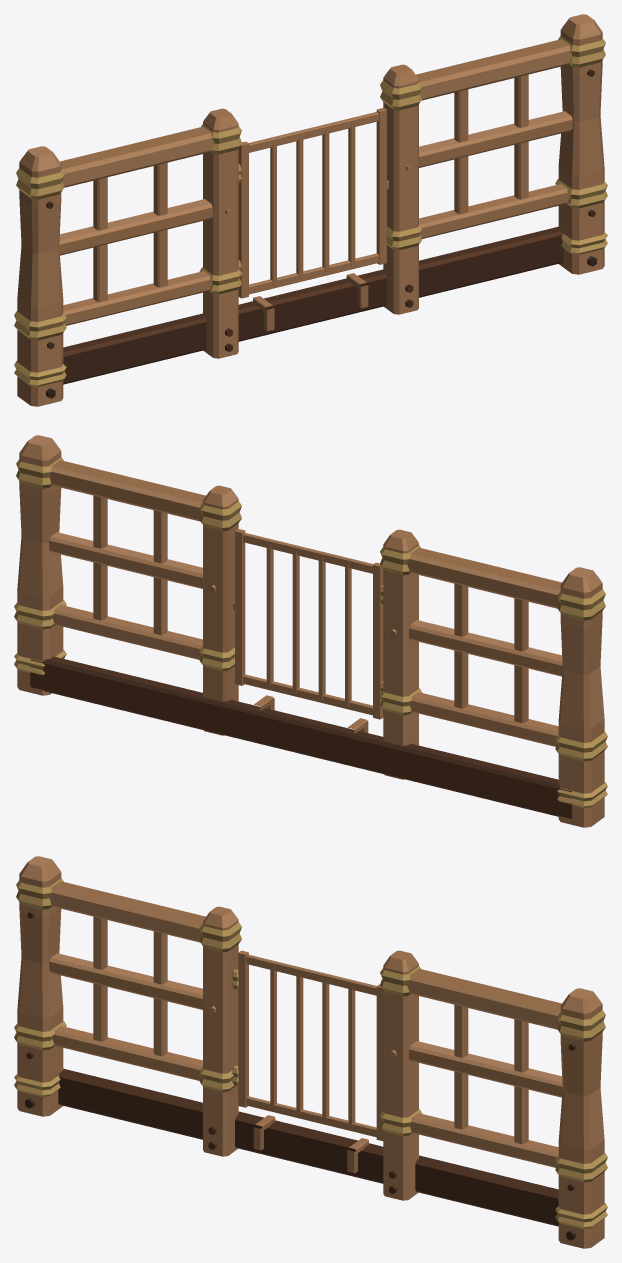
Rendered from modular-deck-edge-guard-f3bee6.glb.
3 views of the same model, one above another, from view 1: azimuth 30°, elevation 25°; view 2: azimuth 150°, elevation 25°; view 3: azimuth 330°, elevation 25° (orthographic).
Visible parts, largest first — view 1: guard-run, post-start-mesh, post-end-mesh, gate-mesh; view 2: guard-run, post-start-mesh, gate-mesh, post-end-mesh; view 3: guard-run, post-end-mesh, post-start-mesh, gate-mesh.
Boxes of the visible parts, <box> form: guard-run: <box>59,39,572,384</box>; post-start-mesh: <box>14,146,66,406</box>; post-end-mesh: <box>555,14,607,274</box>; gate-mesh: <box>238,108,388,298</box>; guard-run: <box>30,460,572,818</box>; post-start-mesh: <box>555,567,607,827</box>; gate-mesh: <box>233,529,383,719</box>; post-end-mesh: <box>14,435,66,695</box>; guard-run: <box>49,881,562,1226</box>; post-end-mesh: <box>555,988,607,1248</box>; post-start-mesh: <box>14,856,66,1116</box>; gate-mesh: <box>232,950,383,1140</box>.
Size of the model in its own units: 3.21 by 1.3 by 0.216.
